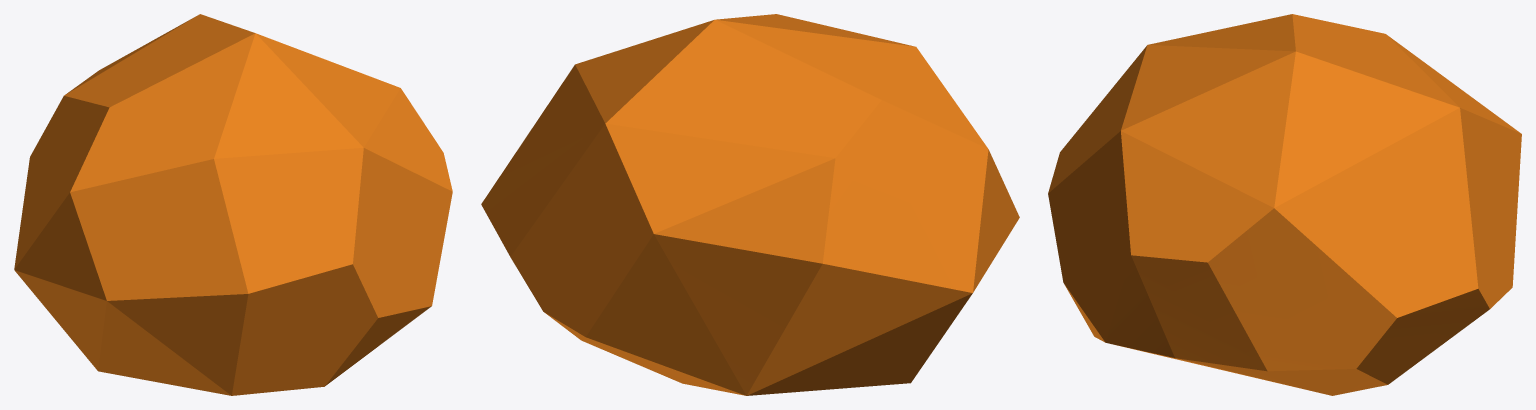
The model's file is DesertRock1.fbx.
3 views of the same model, side by side, from view 1: azimuth 30°, elevation 25°; view 2: azimuth 150°, elevation 25°; view 3: azimuth 270°, elevation 25° (orthographic). The views are drawn at different scales.
Parts seen in each view (by area): view 1: Icosphere; view 2: Icosphere; view 3: Icosphere.
Part boxes in pixels (x1,y1,x2,y2): Icosphere: [14, 14, 452, 395]; Icosphere: [481, 14, 1019, 395]; Icosphere: [1048, 14, 1521, 395].
Bounding box in the file's own units: 336 × 255 × 324.
